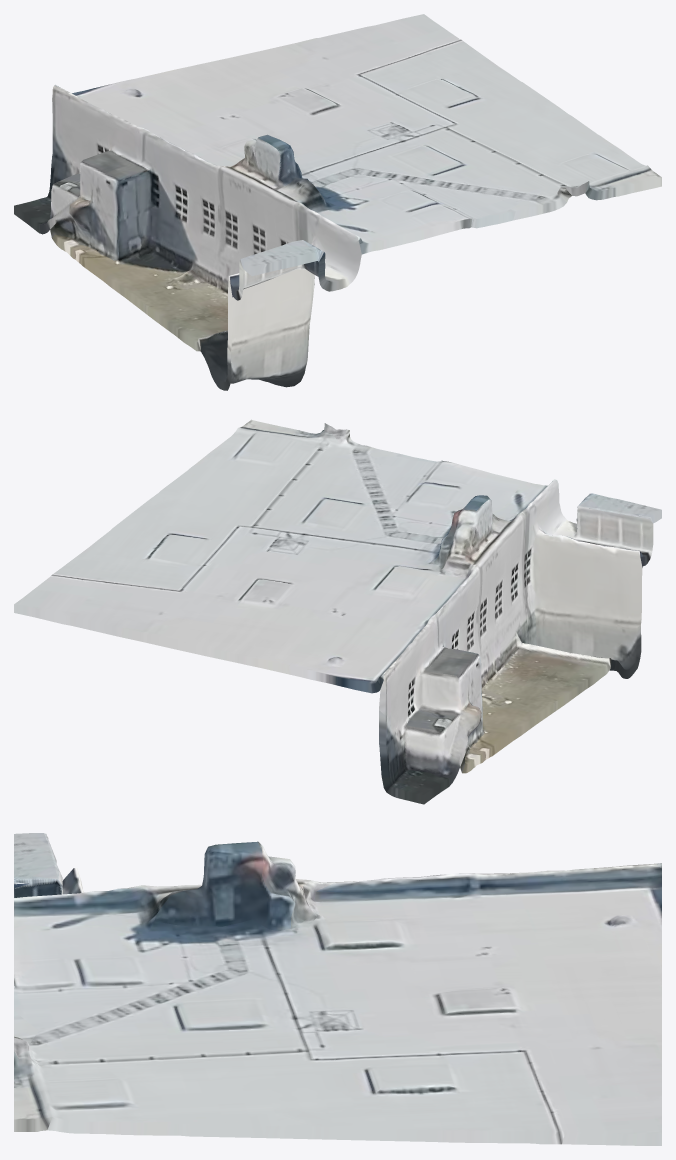
Rendered from z20-167757-405243-h0-yup-uvflip-v3-world.glb.
3 views of the same model, one above another, from view 1: azimuth 30°, elevation 25°; view 2: azimuth 150°, elevation 25°; view 3: azimuth 270°, elevation 25° (orthographic). The views are drawn at different scales.
Bounding box in the file's own units: 30.16 × 14.76 × 30.32.
1 material, 1 textured.
